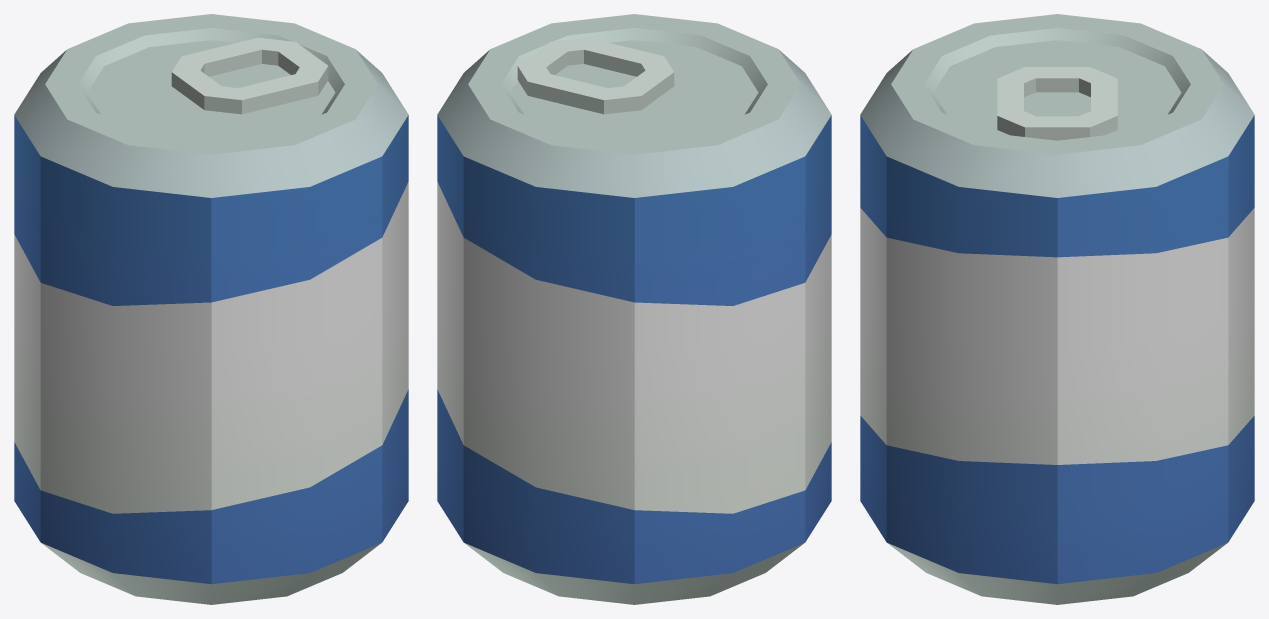
The model's file is Soda_01.fbx.
3 views of the same model, side by side, from view 1: azimuth 30°, elevation 25°; view 2: azimuth 150°, elevation 25°; view 3: azimuth 270°, elevation 25° (orthographic).
Parts seen in each view (by area): view 1: Soda_01; view 2: Soda_01; view 3: Soda_01.
Boxes of the visible parts, x1,y1,x2,y2 form: Soda_01: [14, 14, 408, 604]; Soda_01: [437, 14, 831, 604]; Soda_01: [860, 14, 1254, 604].
Bounding box in the file's own units: 0.2645 × 0.3422 × 0.2645.
